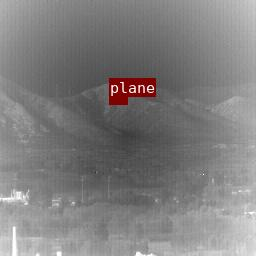plane: (109, 97, 127, 104)
